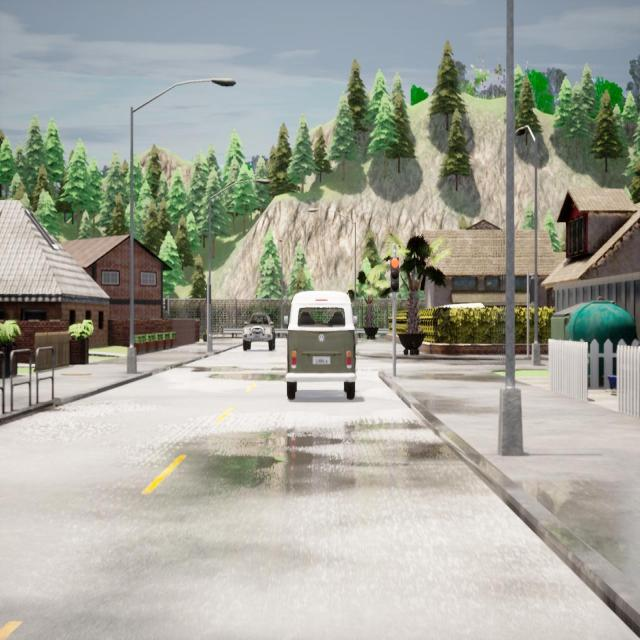Vehicle: (286, 290, 356, 399), (242, 312, 274, 351)
traffic_light: (390, 258, 400, 292), (206, 284, 211, 304), (165, 299, 168, 310)
